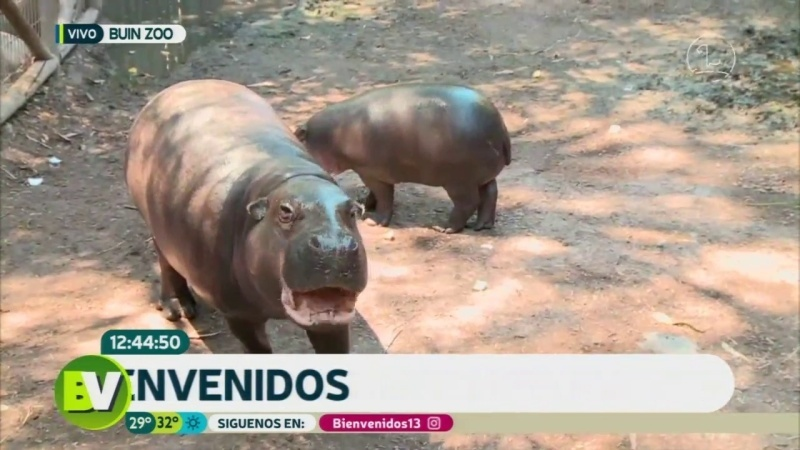hipopotamo: (105, 64, 372, 353), (290, 54, 529, 246)
